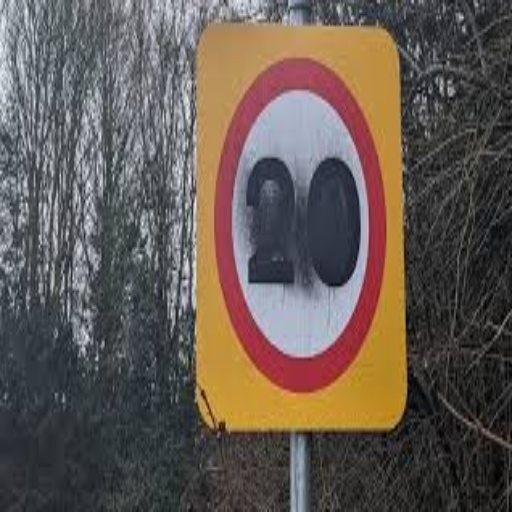Speed limit: (210, 57, 419, 423)
